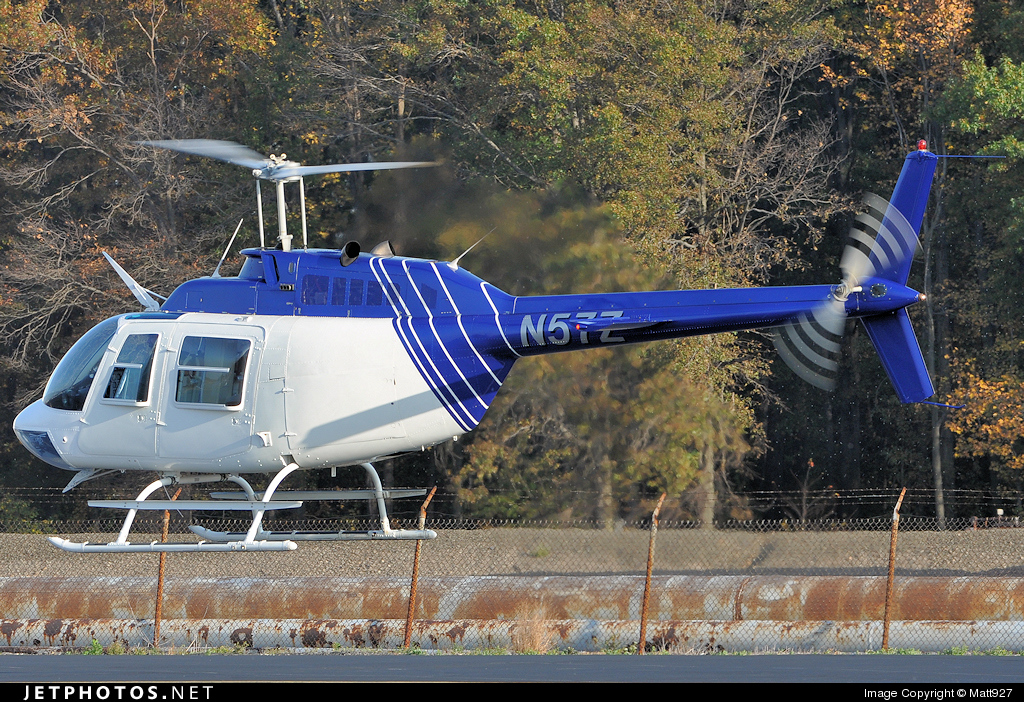number: (518, 311, 631, 347)
